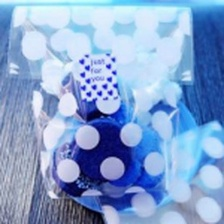snack: (0, 0, 203, 205)
